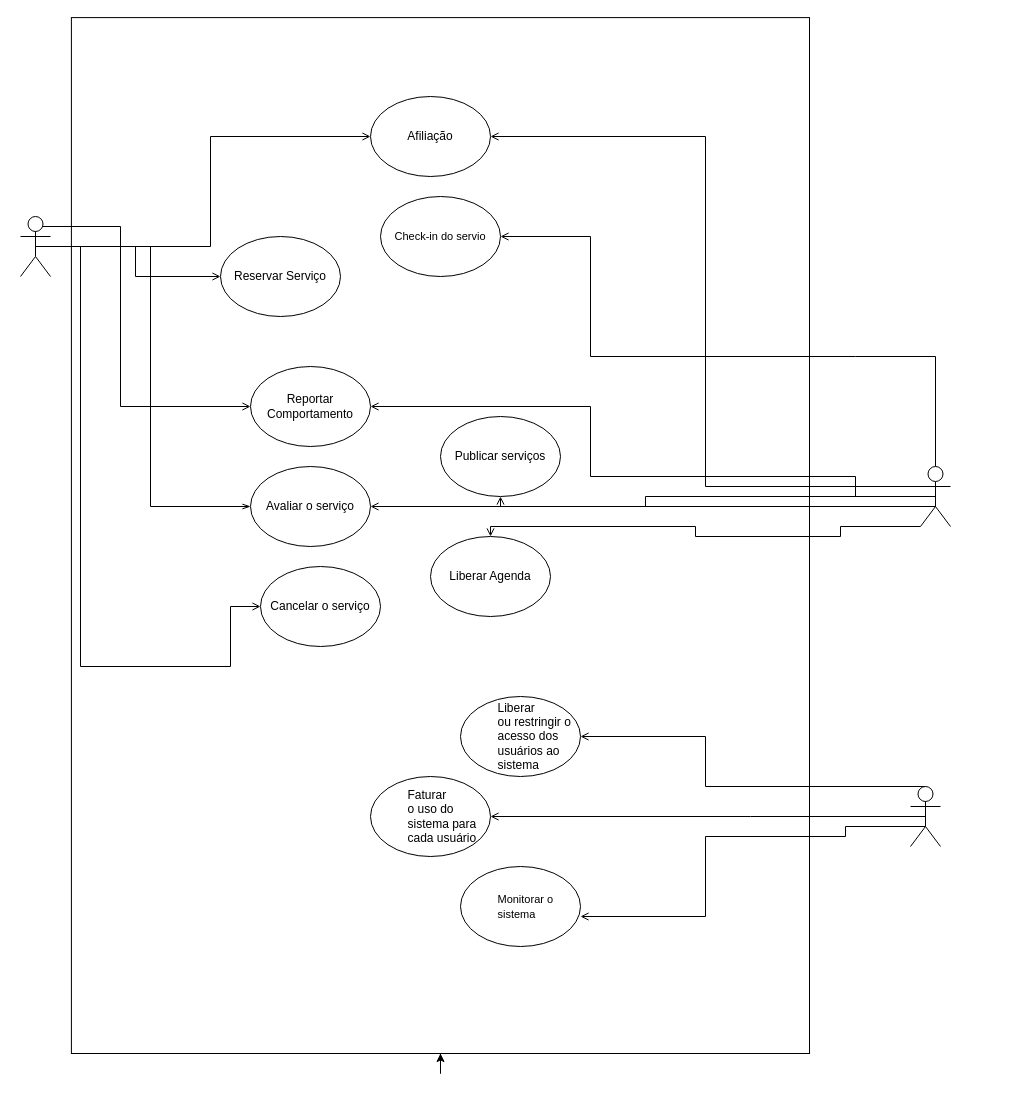
Image size: 1030x1099. Some labels were removed from this diagram. The shapes that lost their labels are listed below. From the top down, each one's centre as x and y in pixels, then its label:
(x=35, y=246): Cliente
(x=935, y=496): Prestador de serviço estético
(x=925, y=816): Gerenciador
